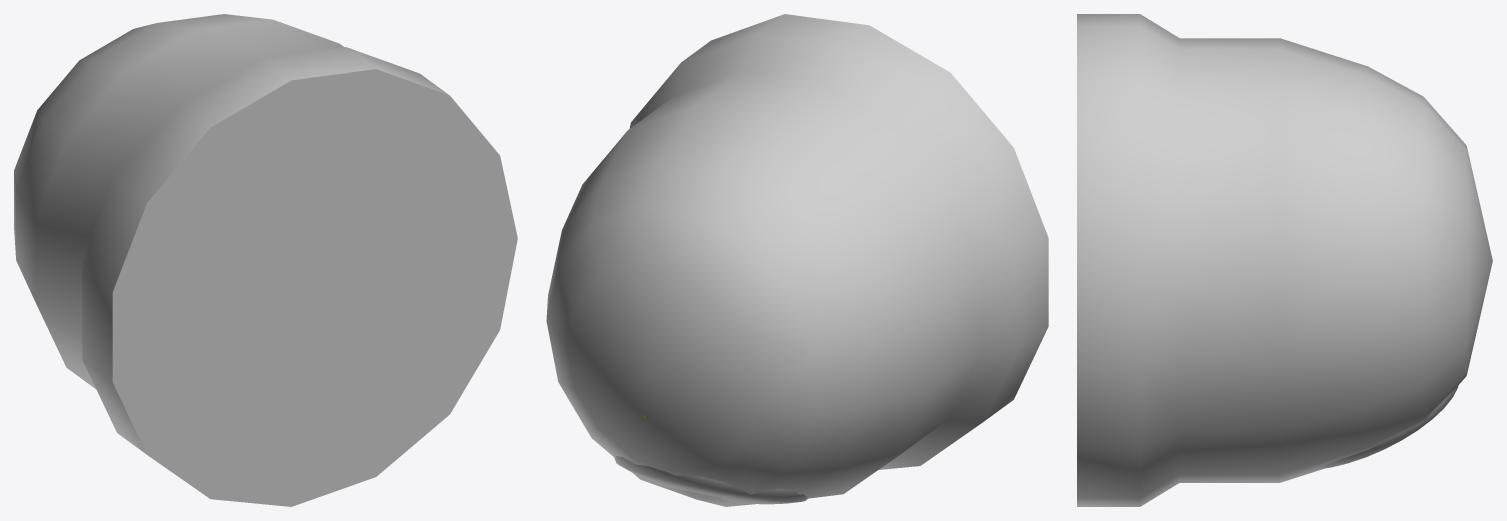
File: sm_hana_cctv_dome_camera.glb
3 views of the same model, side by side, from view 1: azimuth 30°, elevation 25°; view 2: azimuth 150°, elevation 25°; view 3: azimuth 270°, elevation 25° (orthographic). The views are drawn at different scales.
Parts seen in each view (by area): view 1: sm_color_common; view 2: sm_color_common, sm_hana_cctv_dome_camera; view 3: sm_color_common, sm_hana_cctv_dome_camera.
Boxes of the visible parts, box(x1,y1,x2,y2) form: sm_color_common: box(14, 14, 517, 506); sm_color_common: box(546, 14, 1048, 506); sm_hana_cctv_dome_camera: box(614, 414, 807, 504); sm_color_common: box(1077, 14, 1492, 506); sm_hana_cctv_dome_camera: box(1316, 386, 1458, 469).
Bounding box in the file's own units: 0.5655 × 0.5687 × 0.4796.
Materials: 3 (1 with a texture image).
